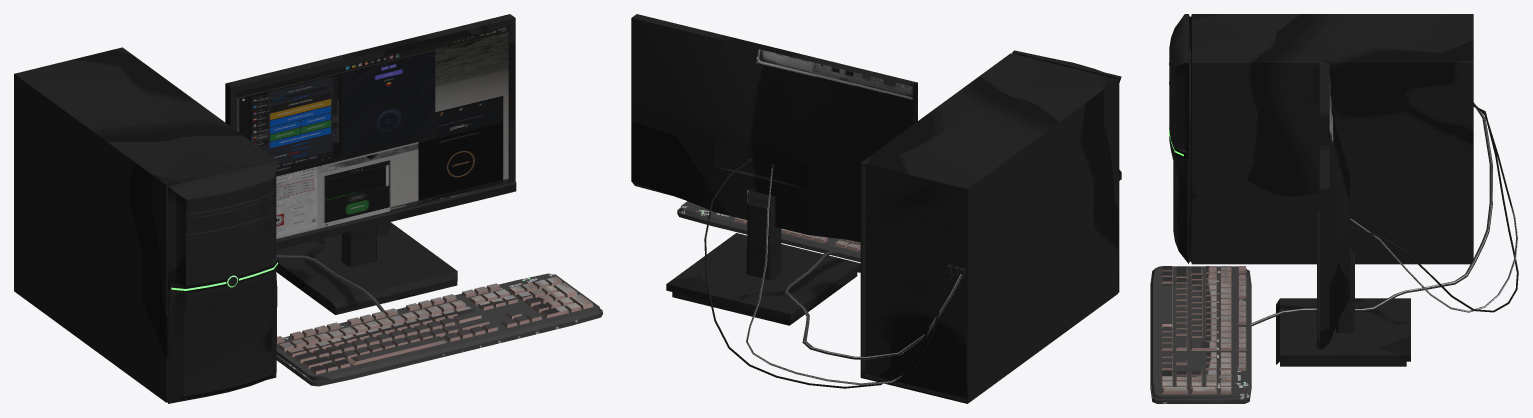
The model's file is left-personal-computer.glb.
3 views of the same model, side by side, from view 1: azimuth 30°, elevation 25°; view 2: azimuth 150°, elevation 25°; view 3: azimuth 270°, elevation 25° (orthographic). The views are drawn at different scales.
Visible parts, largest first — view 1: Cube_PC_0, Cube_Screen_0, Cube_Keyboard_0; view 2: Cube_PC_0, Cube_Keyboard_0; view 3: Cube_PC_0, Cube_Keyboard_0.
Boxes of the visible parts, x1,y1,x2,y2 form: Cube_PC_0: (14,14,516,403); Cube_Screen_0: (237,26,508,238); Cube_Keyboard_0: (276,255,602,386); Cube_PC_0: (631,14,1121,403); Cube_Keyboard_0: (677,201,962,359); Cube_PC_0: (1169,14,1518,366); Cube_Keyboard_0: (1150,102,1492,403).
Bounding box in the file's own units: 136 × 72.27 × 112.
4 materials, 3 textured.
